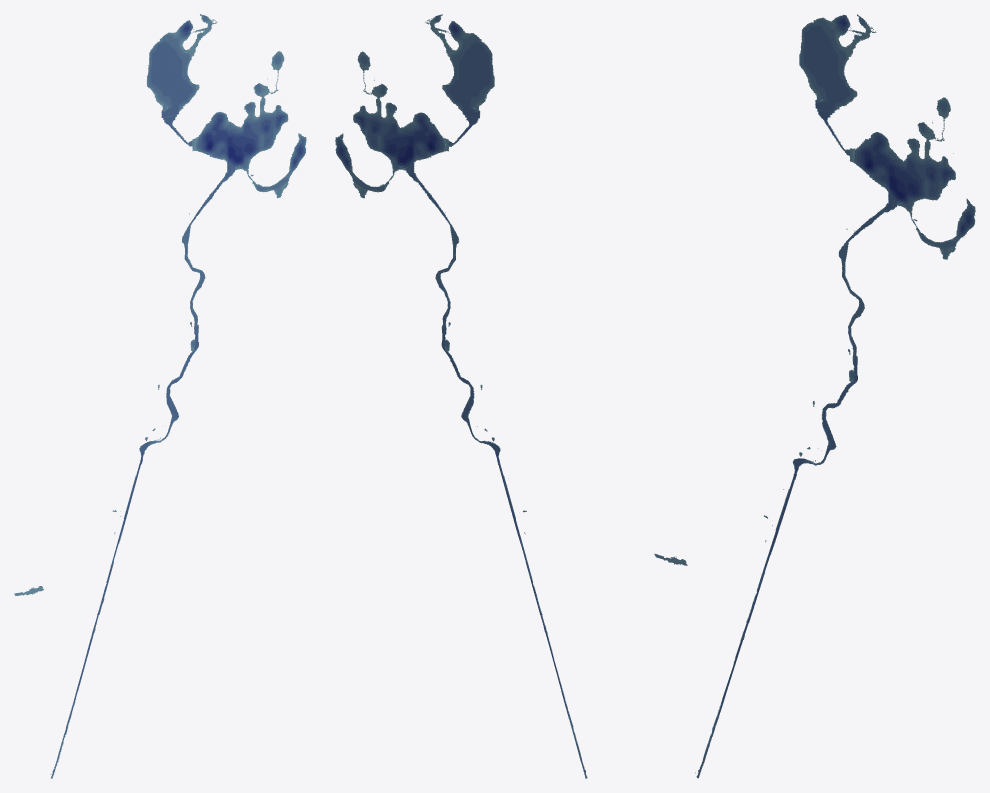
The model's file is triangle_mesh.glb.
The picture shows the model from 3 angles, left to right: view 1: azimuth 30°, elevation 25°; view 2: azimuth 150°, elevation 25°; view 3: azimuth 330°, elevation 25°; orthographic projection. The views are drawn at different scales.
Visible parts, largest first — view 1: world; view 2: world; view 3: world.
Boxes of the visible parts, x1,y1,x2,y2 form: world: [14, 14, 306, 778]; world: [335, 14, 587, 778]; world: [654, 14, 975, 778].
Bounding box in the file's own units: 1147 × 2739 × 13.97.
